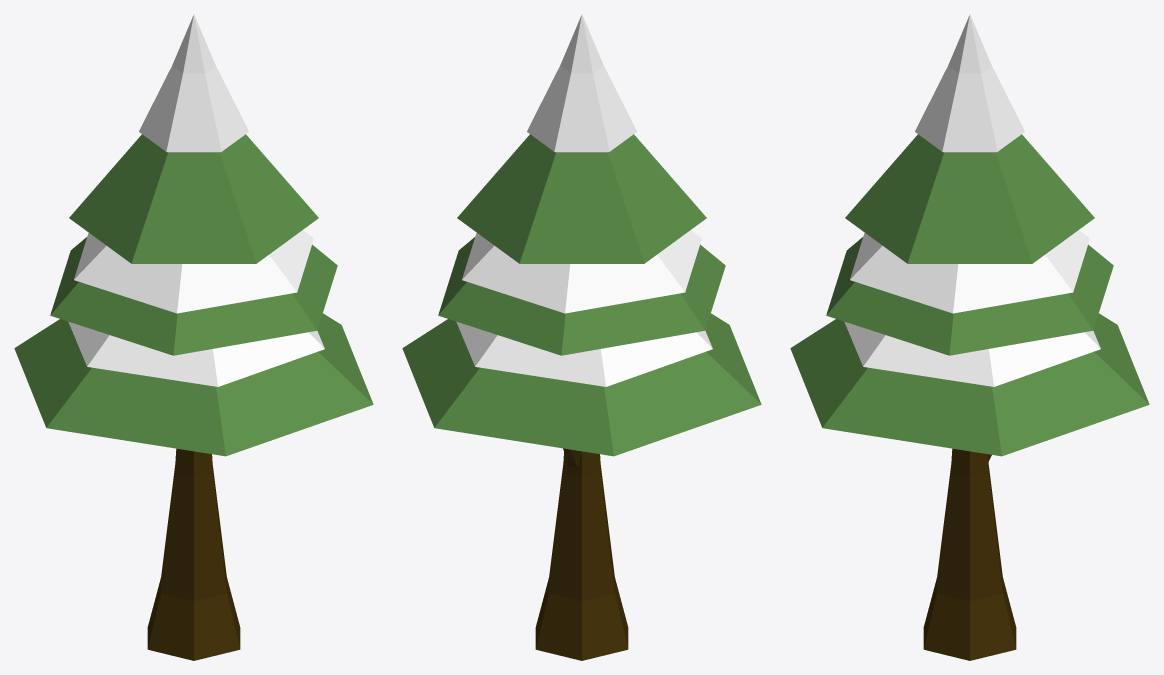
The model's file is Tree_2_Snow.fbx.
3 renders of one model, left to right at view 1: azimuth 30°, elevation 25°; view 2: azimuth 150°, elevation 25°; view 3: azimuth 270°, elevation 25°, orthographic.
Visible parts, largest first — view 1: Tree_2_Snow; view 2: Tree_2_Snow; view 3: Tree_2_Snow.
Boxes of the visible parts, x1=… form: Tree_2_Snow: x1=14, y1=14, x2=373, y2=660; Tree_2_Snow: x1=402, y1=14, x2=761, y2=660; Tree_2_Snow: x1=790, y1=14, x2=1149, y2=660.
Bounding box in the file's own units: 7.08 × 12.9 × 6.73.
